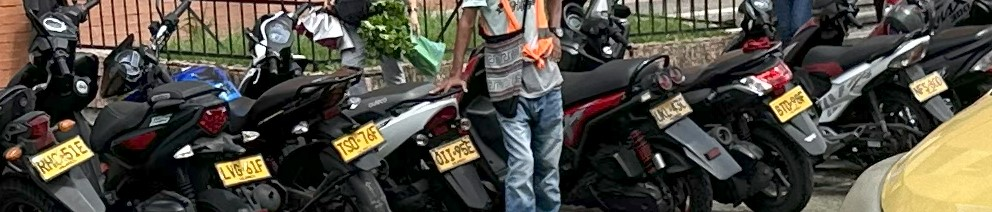number plate: (30, 136, 93, 180), (332, 122, 384, 162), (430, 135, 479, 172), (215, 155, 270, 186), (769, 86, 811, 122), (650, 93, 691, 128), (909, 71, 947, 101)
